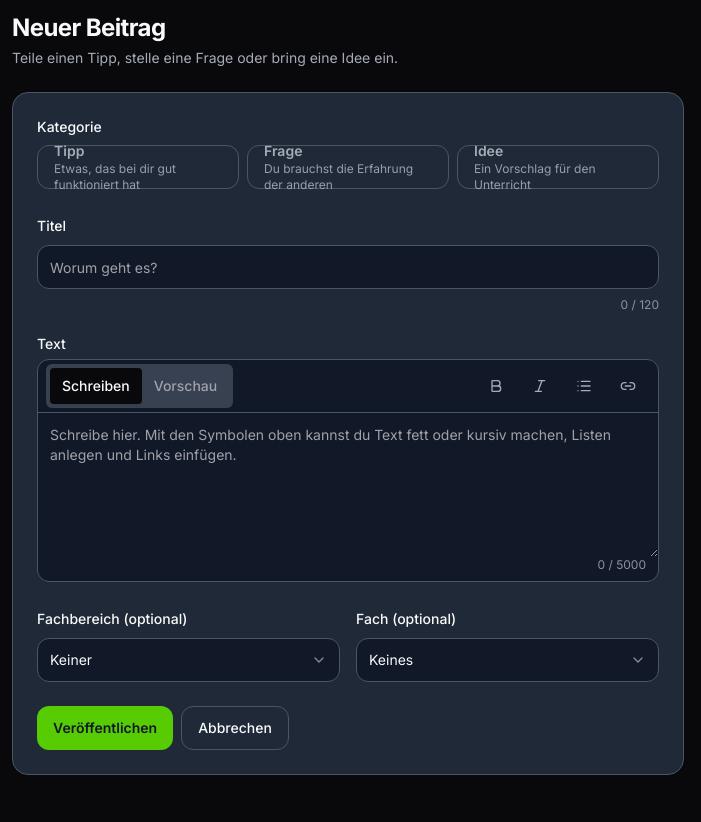
Test: Beitragsformular › zeigt Fehler am Feld und sendet nichts, wenn Angaben fehlen
Step 1. Click the button "Veröffentlichen" → [105, 728], box [37,706,173,750]
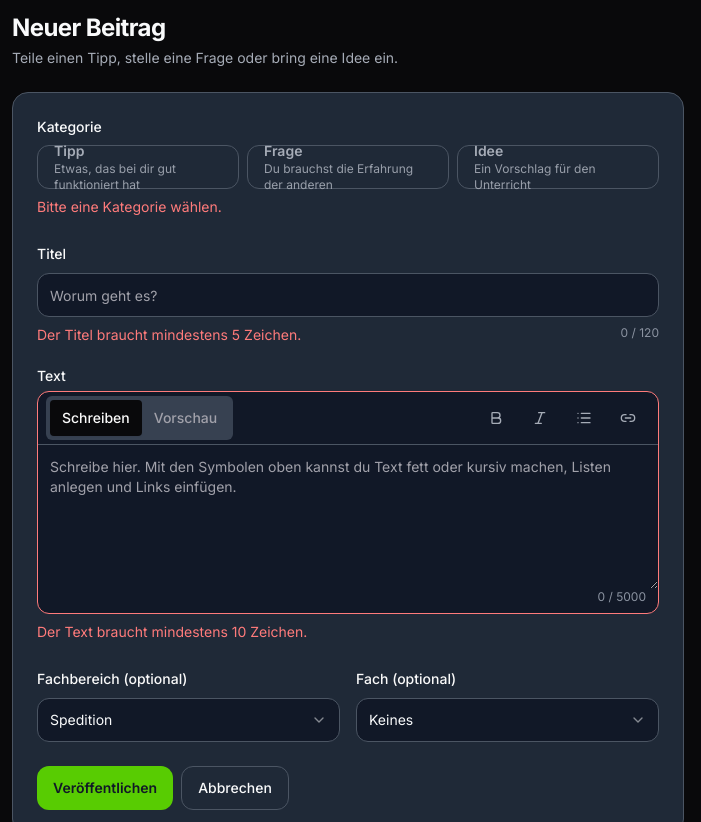
Expected: the text "Bitte eine Kategorie wählen." is shown, [37,198,222,215]
Expected: the text "Der Titel braucht mindestens 5 Zeichen." is shown, [37,325,301,345]
